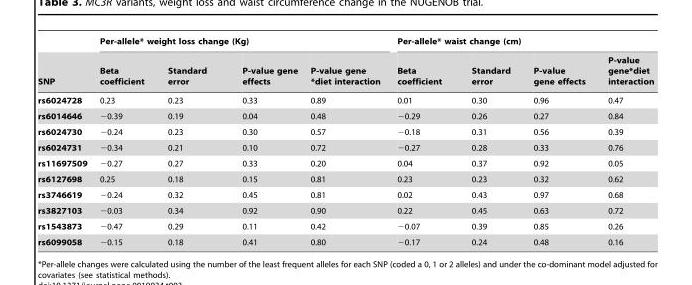table: (37, 36, 653, 246)
table column: (303, 36, 388, 246), (223, 36, 303, 246), (521, 36, 596, 246), (155, 36, 223, 246), (388, 36, 455, 246), (455, 36, 521, 246), (92, 36, 155, 246), (596, 36, 653, 246), (37, 36, 92, 246)
table column header: (37, 36, 653, 90)
table row: (37, 50, 653, 90), (37, 90, 653, 107), (37, 107, 653, 123), (37, 123, 653, 139), (37, 139, 653, 155), (37, 155, 653, 171), (37, 186, 653, 202), (37, 202, 653, 218), (37, 171, 653, 186), (37, 218, 653, 233), (37, 36, 653, 50), (37, 233, 653, 246)
table spanning cell: (92, 36, 388, 50), (388, 36, 653, 50), (37, 36, 92, 90)
